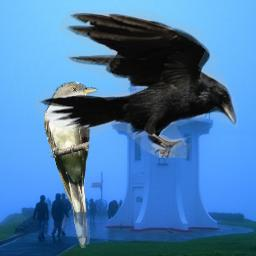Crow: (35, 10, 238, 158)
Cuckoo: (44, 81, 98, 249)
